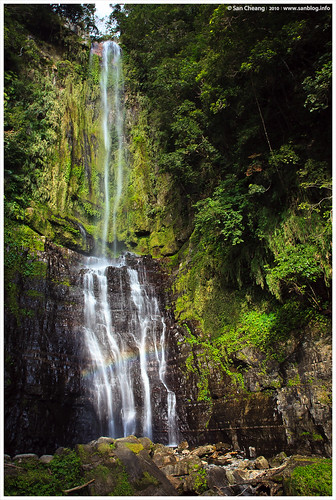wufengciWaterfall: (41, 32, 206, 441)
